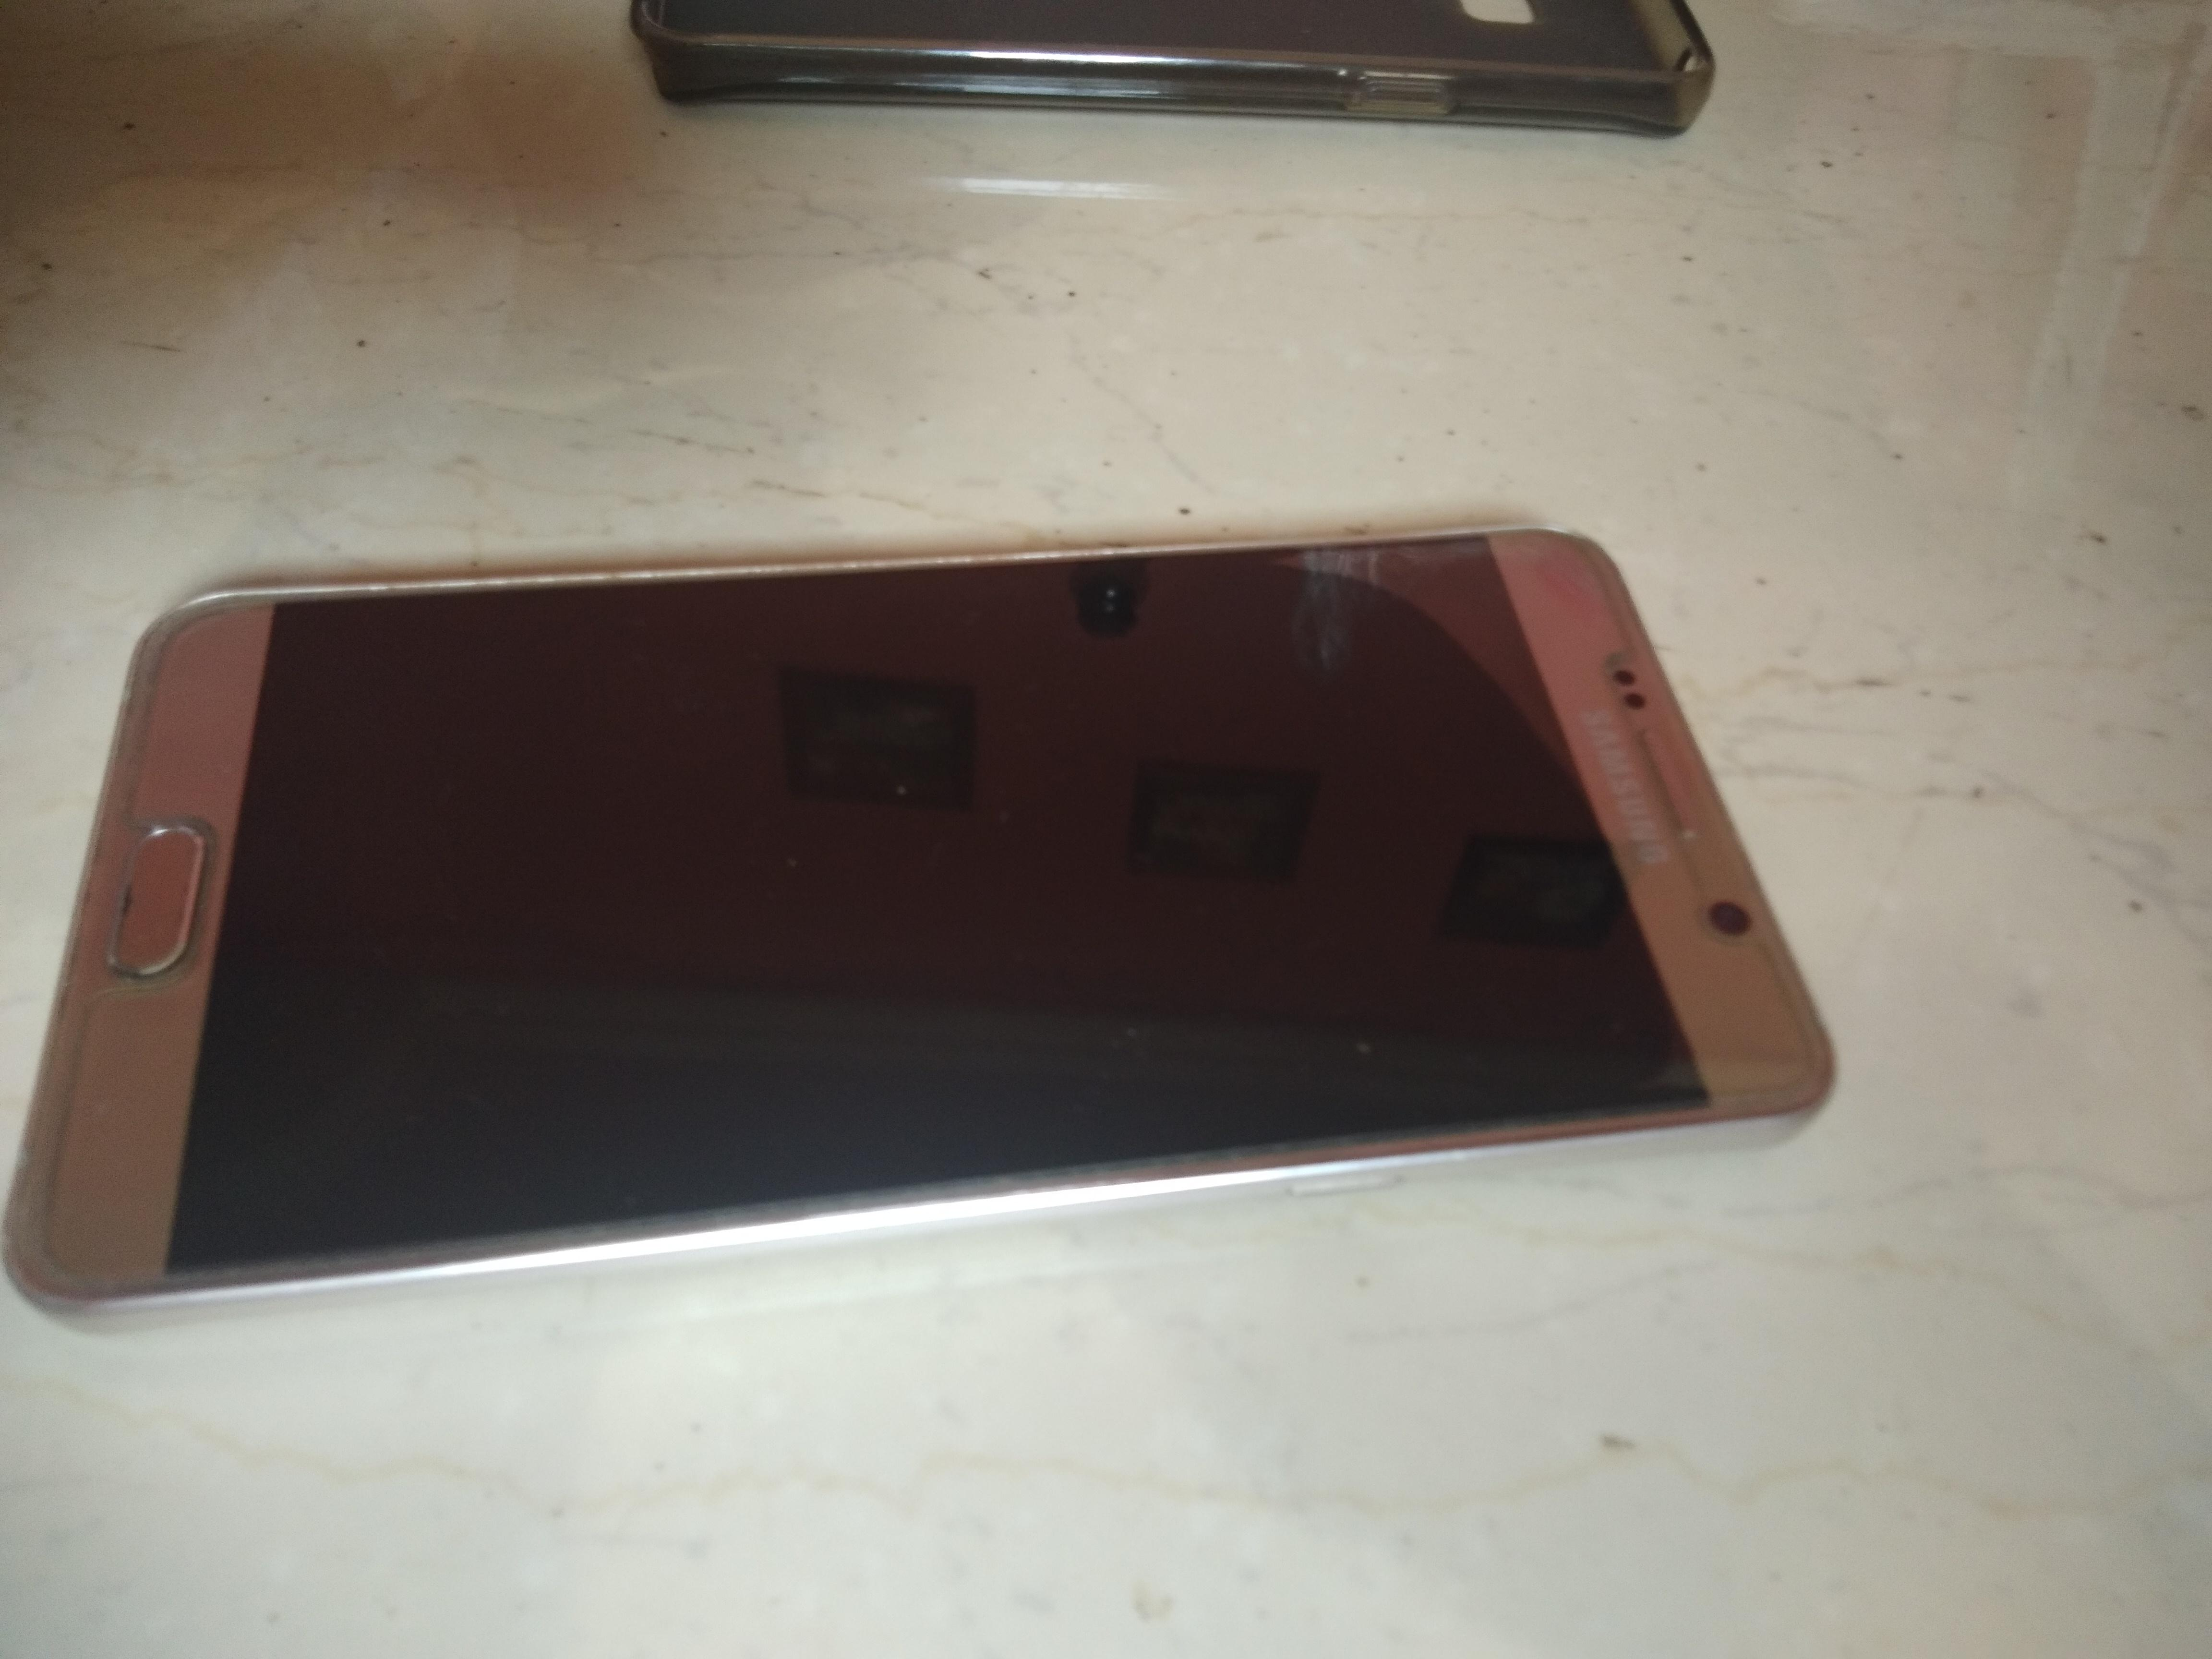Phone: (0, 467, 1890, 1359)
